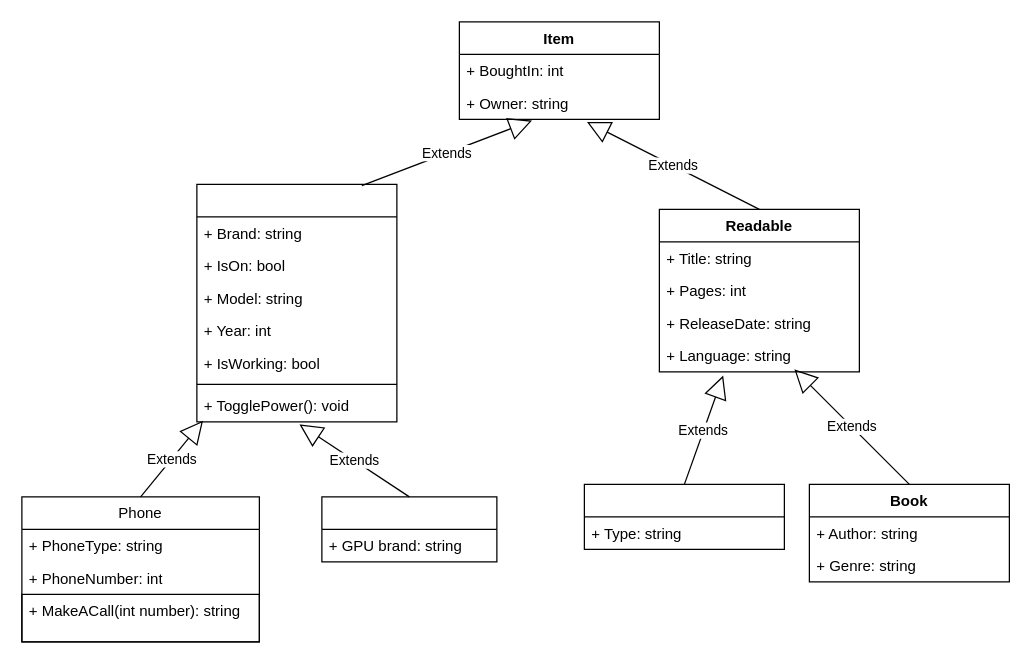
Some shapes in this 1031 by 668 pixel diagram are drawn without their labels. The shapes that lost their labels are listed below. From the top down, each one's box as (x1, y1, x2, y2) in pixels, then its label:
(196, 183, 397, 422): Electric device
(321, 496, 497, 562): Laptop
(583, 483, 784, 549): Magazine
